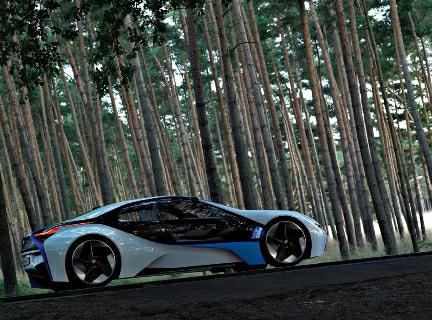宝马-EfficientDynamics: (17, 189, 338, 297)
